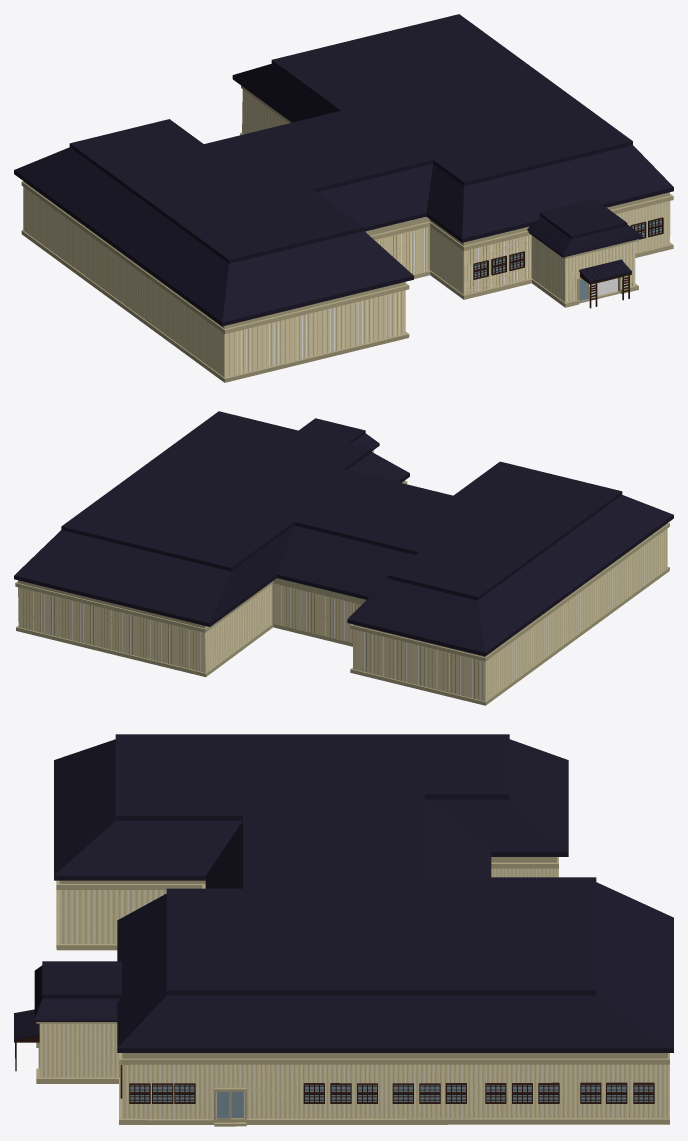
File: new school.fbx
The picture shows the model from 3 angles, top to bottom: view 1: azimuth 30°, elevation 25°; view 2: azimuth 150°, elevation 25°; view 3: azimuth 270°, elevation 25°; orthographic projection. The views are drawn at different scales.
Visible parts, largest first — view 1: roof1, polySurface32, polySurface2; view 2: roof1, polySurface32; view 3: roof1, polySurface32, wood_windo24, polySurface33, polySurface2.
Part boxes in pixels (x1=…): roof1: x1=14, y1=14, x2=673, y2=328; polySurface32: x1=21, y1=85, x2=673, y2=382; polySurface2: x1=579, y1=259, x2=631, y2=284; roof1: x1=14, y1=411, x2=673, y2=657; polySurface32: x1=15, y1=450, x2=669, y2=705; roof1: x1=34, y1=734, x2=673, y2=1058; polySurface32: x1=36, y1=857, x2=669, y2=1124; wood_windo24: x1=129, y1=1082, x2=654, y2=1103; polySurface33: x1=246, y1=1101, x2=668, y2=1118; polySurface2: x1=14, y1=1009, x2=39, y2=1042.
Bounding box in the file's own units: 191 × 37.81 × 184.
